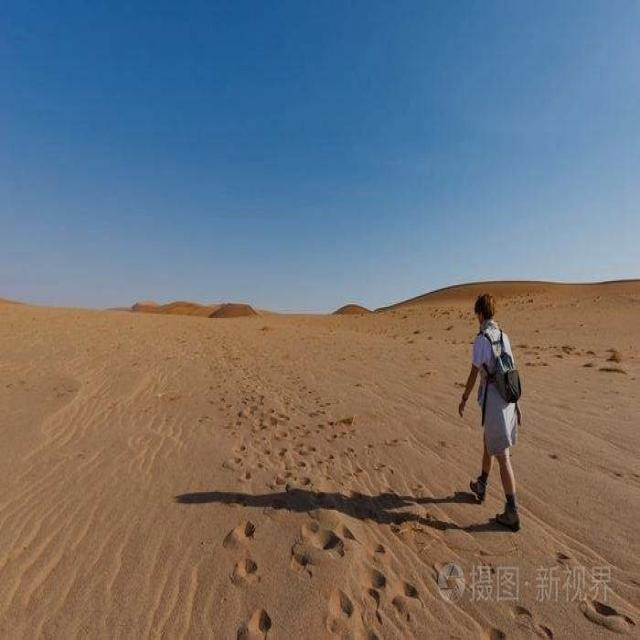non-fight: (454, 291, 528, 535)
